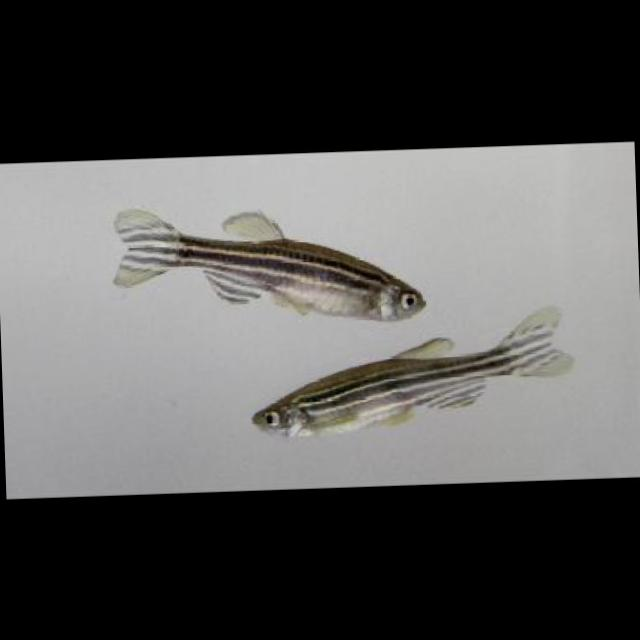ZebraFish: (248, 304, 572, 438), (113, 194, 428, 326)
